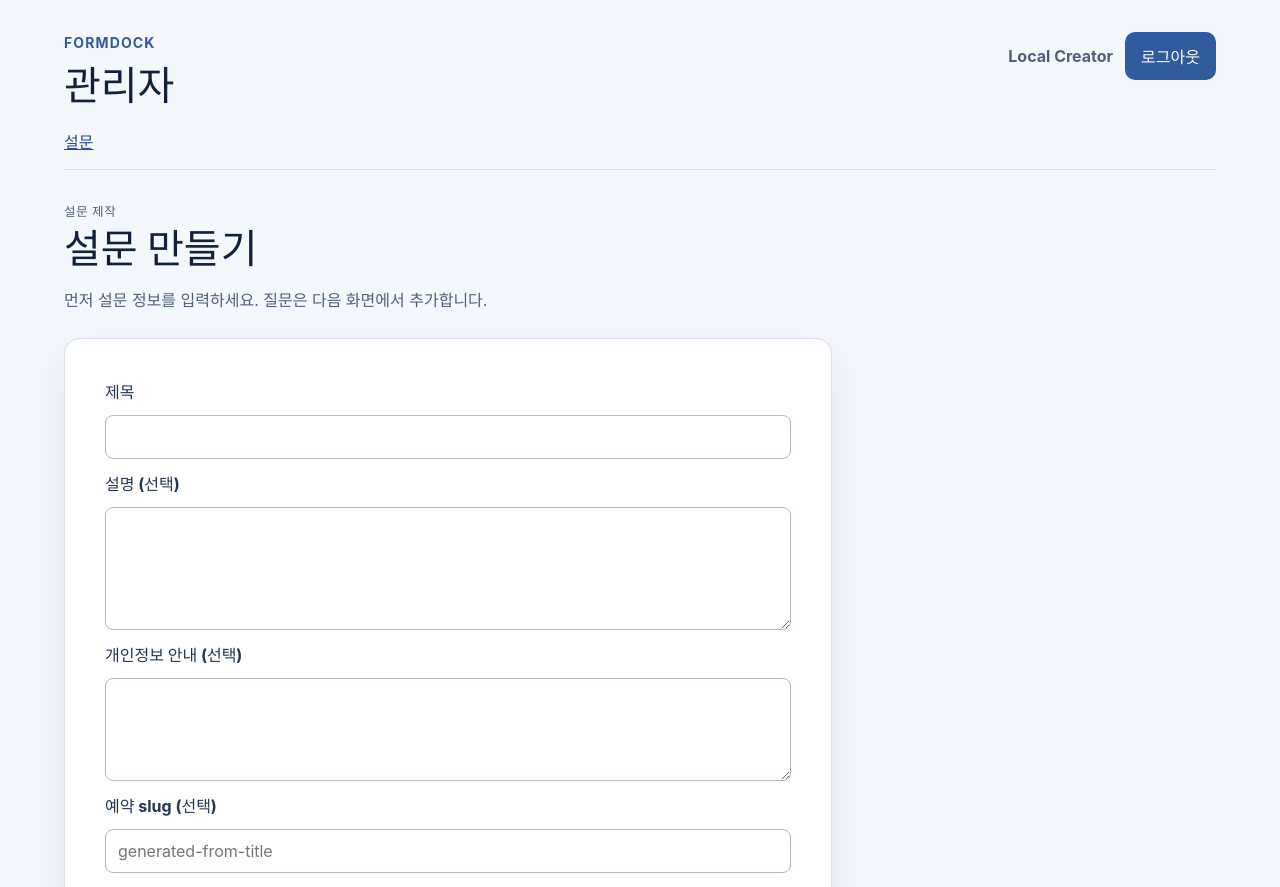
it: Survey Creator workflow › should_associateCreateFieldError_when_slugConflicts
The image size is (1280, 887).
Expected: the heading "설문 만들기" is shown, top-left (64, 224), bottom-right (258, 273)
In the field labelled "제목": (448, 437) top-left (105, 415), bottom-right (791, 459), type "Research survey"
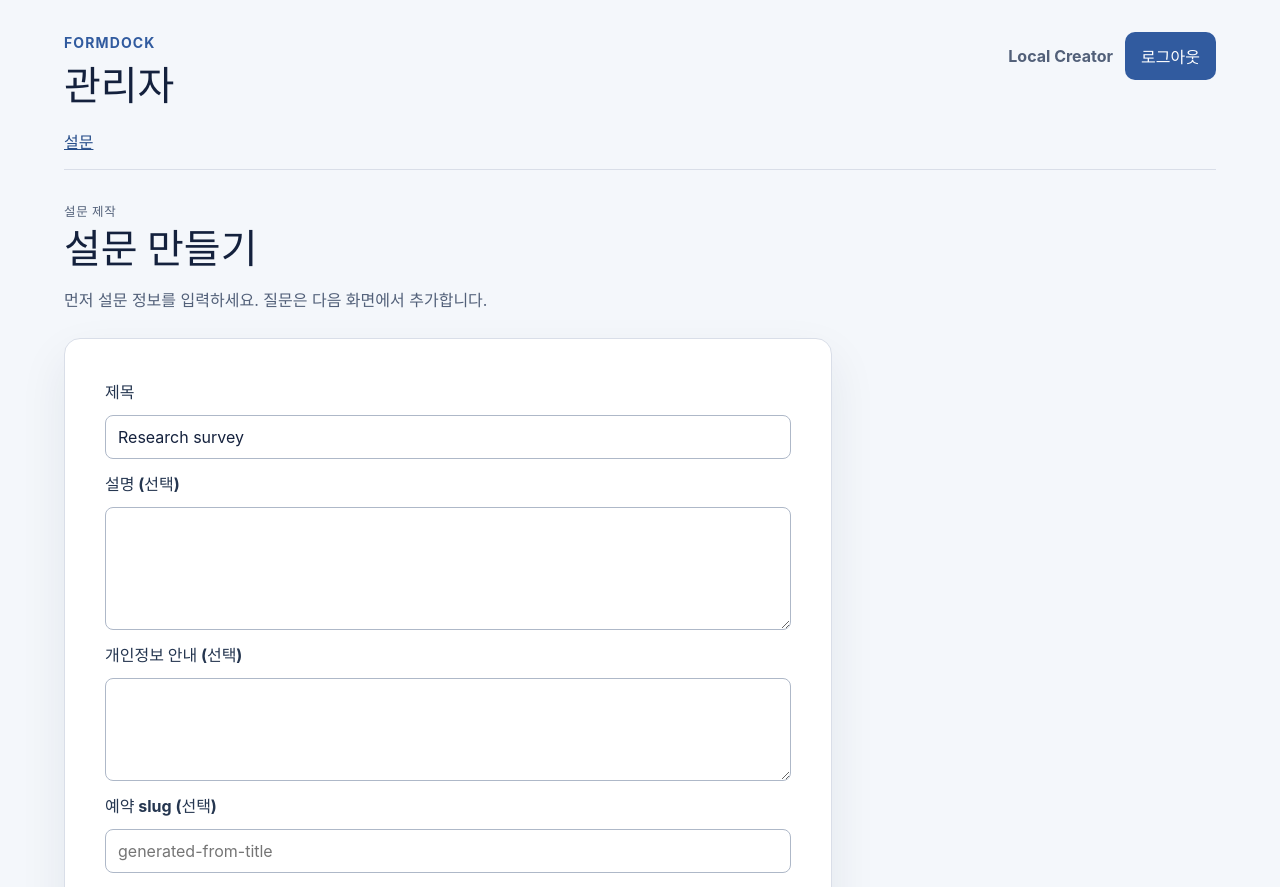
In the field labelled "예약 slug (선택)": (448, 850) top-left (105, 828), bottom-right (791, 872), type "reserved"
(page scrolled)
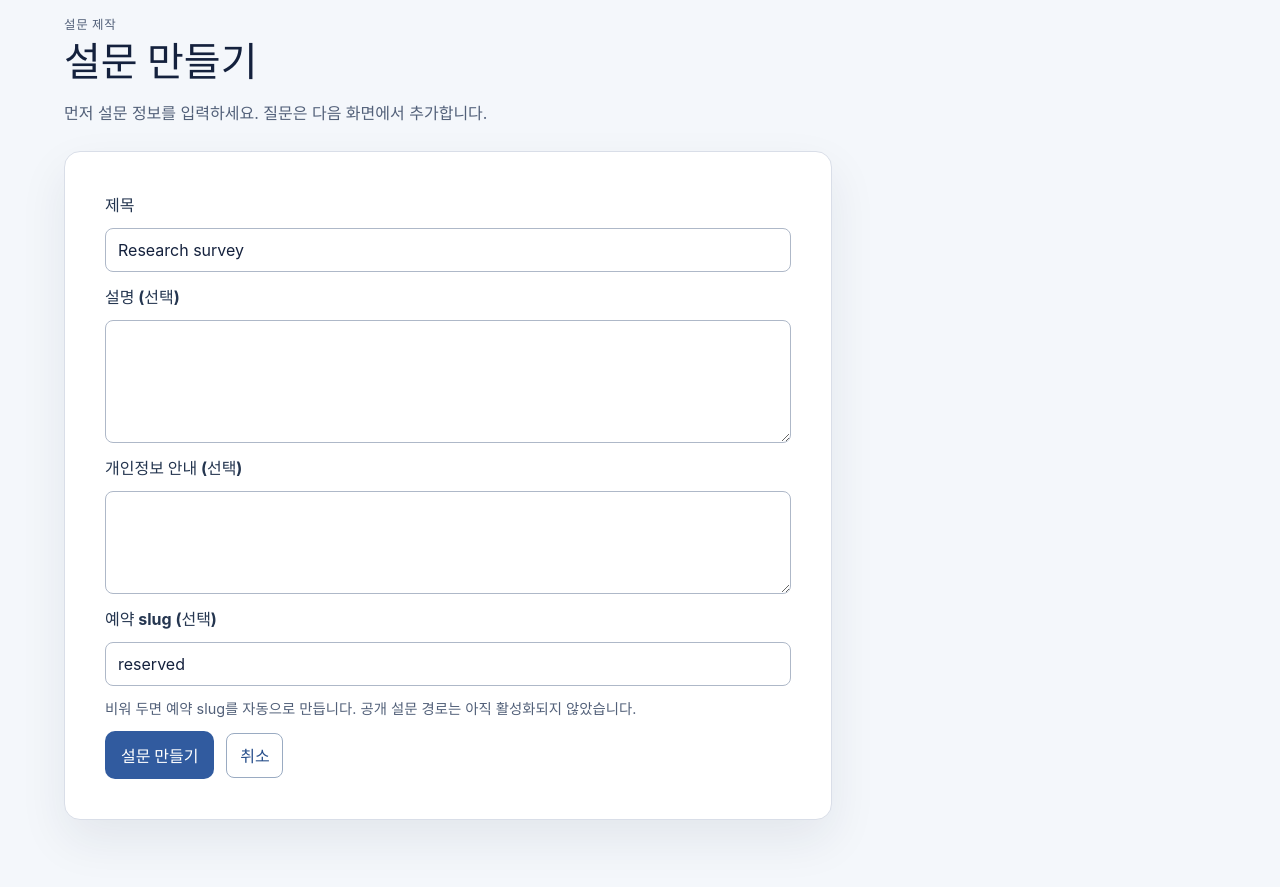
Click the button "설문 만들기": (160, 755) top-left (105, 731), bottom-right (214, 779)
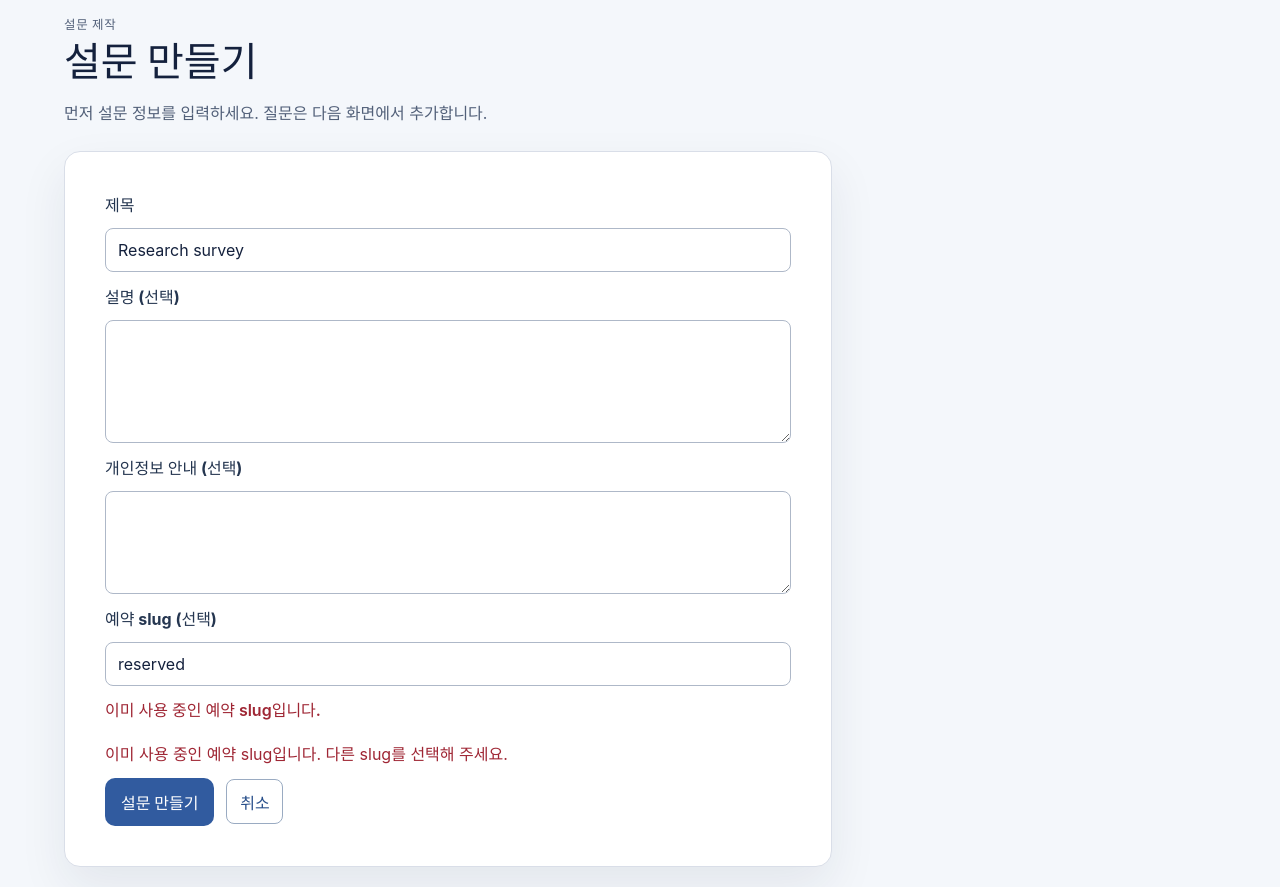
Expected: the text "이미 사용 중인 예약 slug입니다." is shown, top-left (105, 700), bottom-right (321, 720)
